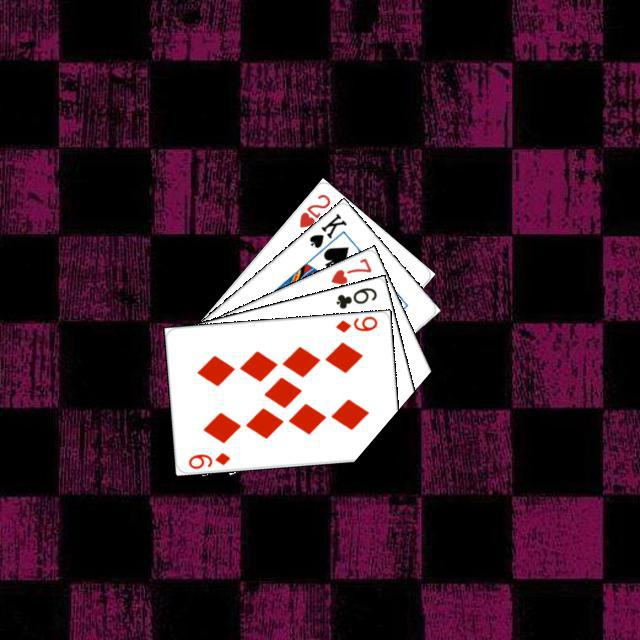2h: (294, 189, 332, 229)
6c: (331, 283, 379, 311)
7h: (326, 253, 373, 286)
9d: (183, 447, 232, 470), (331, 312, 379, 334)
Ks: (304, 208, 349, 250)
